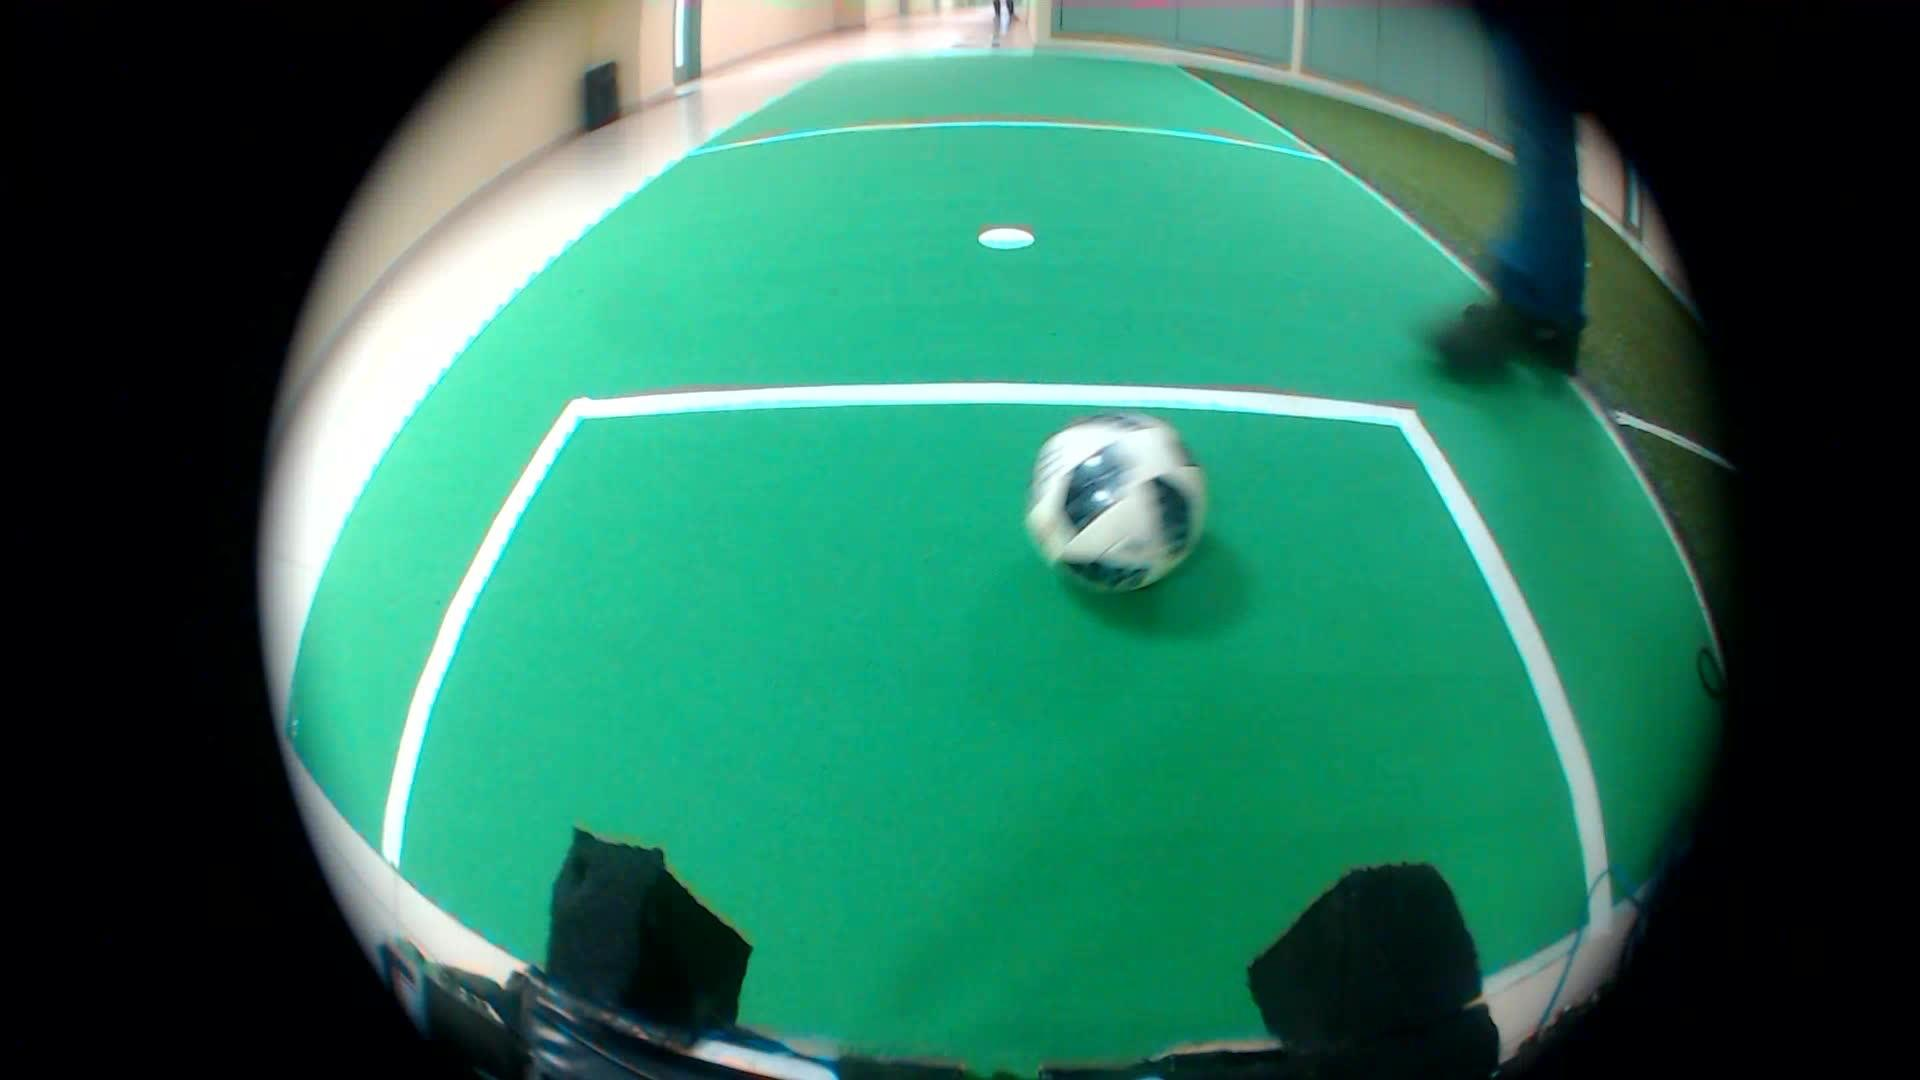ball: (1011, 396, 1217, 607)
